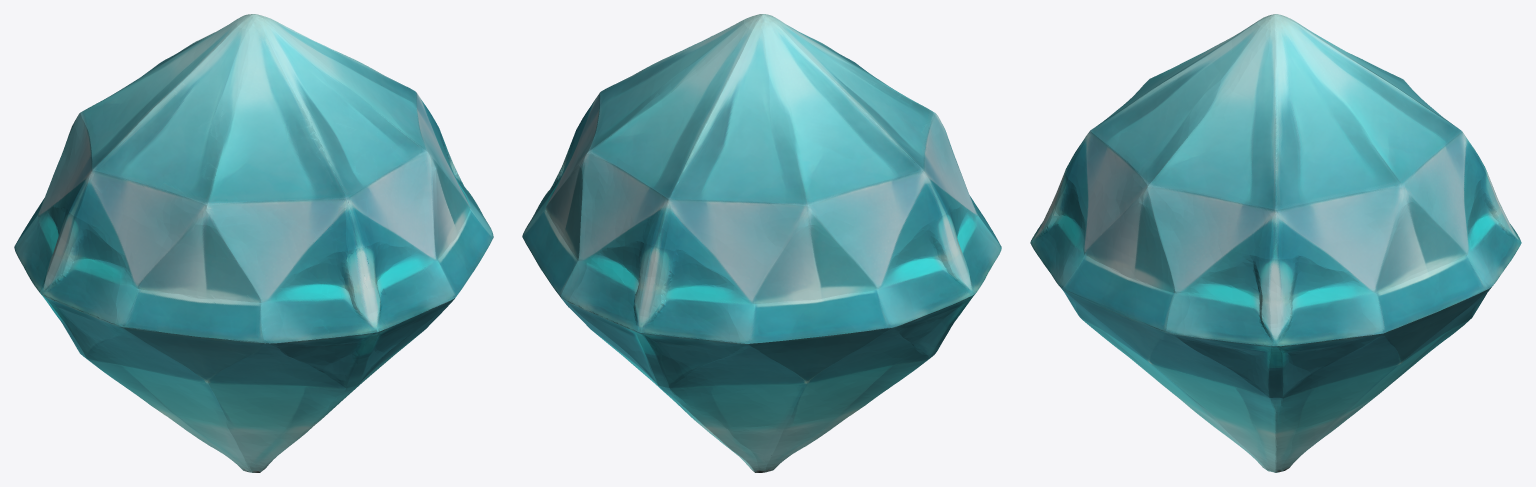
Rendered from coin.glb.
The picture shows the model from 3 angles, left to right: view 1: azimuth 30°, elevation 25°; view 2: azimuth 150°, elevation 25°; view 3: azimuth 270°, elevation 25°; orthographic projection.
Parts seen in each view (by area): view 1: world; view 2: world; view 3: world.
Boxes of the visible parts, x1,y1,x2,y2 form: world: [14, 14, 493, 472]; world: [522, 14, 1001, 472]; world: [1030, 14, 1521, 472].
Bounding box in the file's own units: 0.978 × 1 × 0.9789.
1 material, 1 textured.
